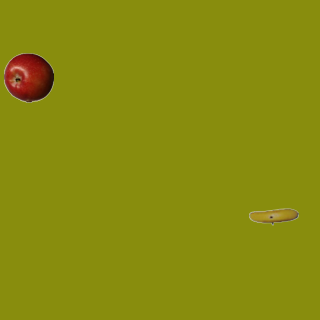Apple Braeburn: (3, 52, 53, 102)
Banana: (248, 191, 298, 241)
